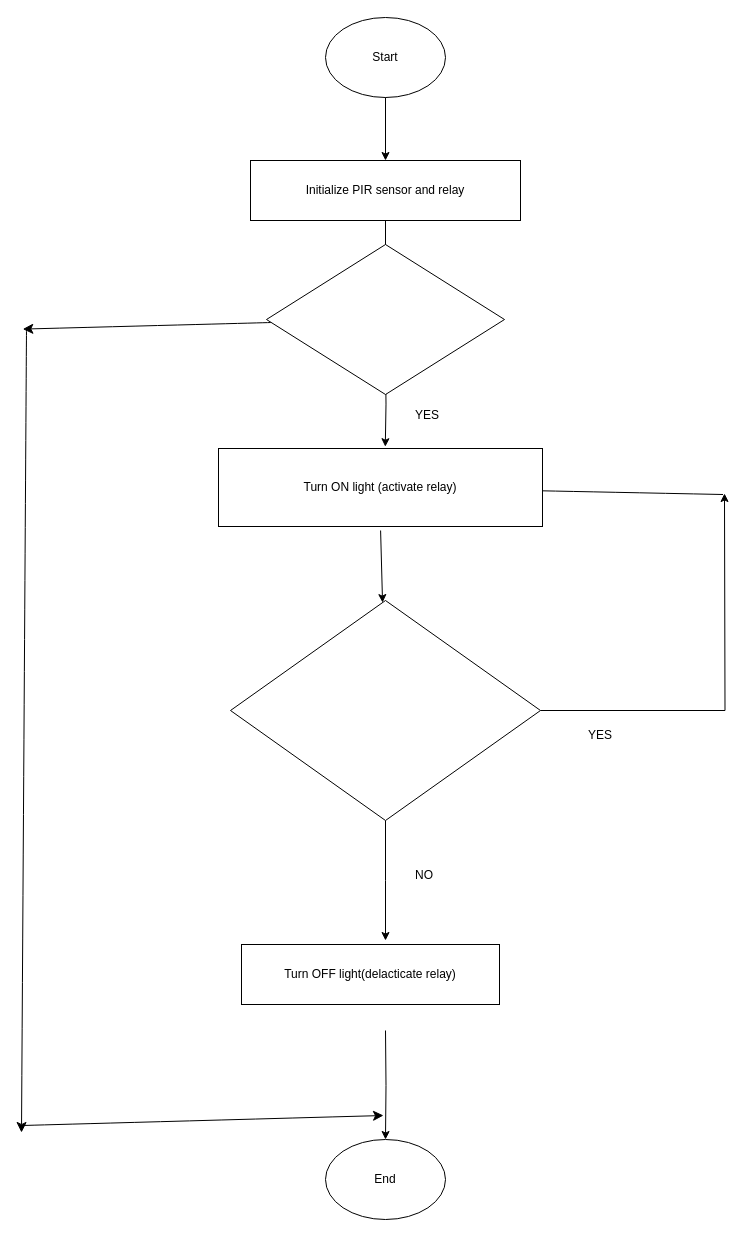
This 751x1237 diagram has some shape labels left out. Here are the shapes that lost their labels. From the top down, the centre of each, then its label:
point 385,319: Is motion detector(PIR = High)?
point 385,710: Is mtion detected again within countdown?
